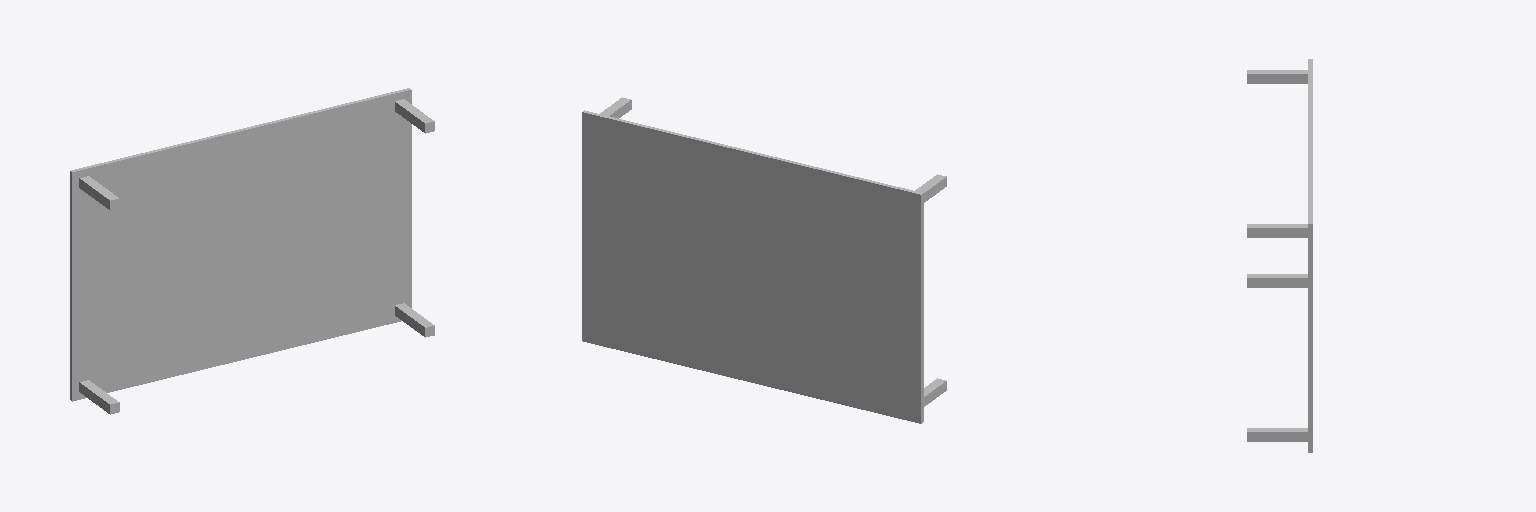
Rendered from random_table21.obj.
The picture shows the model from 3 angles: view 1: azimuth 30°, elevation 25°; view 2: azimuth 150°, elevation 25°; view 3: azimuth 270°, elevation 25°; orthographic projection.
Parts seen in each view (by area): view 1: Table_Cube.300, TableLeg3_Cube.304, TableLeg1_Cube.302, TableLeg0_Cube.301, TableLeg2_Cube.303; view 2: Table_Cube.300; view 3: Table_Cube.300, TableLeg0_Cube.301, TableLeg1_Cube.302, TableLeg2_Cube.303, TableLeg3_Cube.304.
Part boxes in pixels (x1,y1,x2,y2): Table_Cube.300: (70, 88, 411, 401); TableLeg3_Cube.304: (79, 380, 119, 414); TableLeg1_Cube.302: (79, 176, 119, 209); TableLeg0_Cube.301: (395, 99, 434, 133); TableLeg2_Cube.303: (395, 303, 434, 337); Table_Cube.300: (582, 110, 923, 423); Table_Cube.300: (1308, 59, 1312, 452); TableLeg0_Cube.301: (1247, 224, 1307, 237); TableLeg1_Cube.302: (1247, 70, 1307, 83); TableLeg2_Cube.303: (1247, 428, 1307, 441); TableLeg3_Cube.304: (1247, 274, 1307, 287).
Bounding box in the file's own units: 11.43 × 7.38 × 1.92.